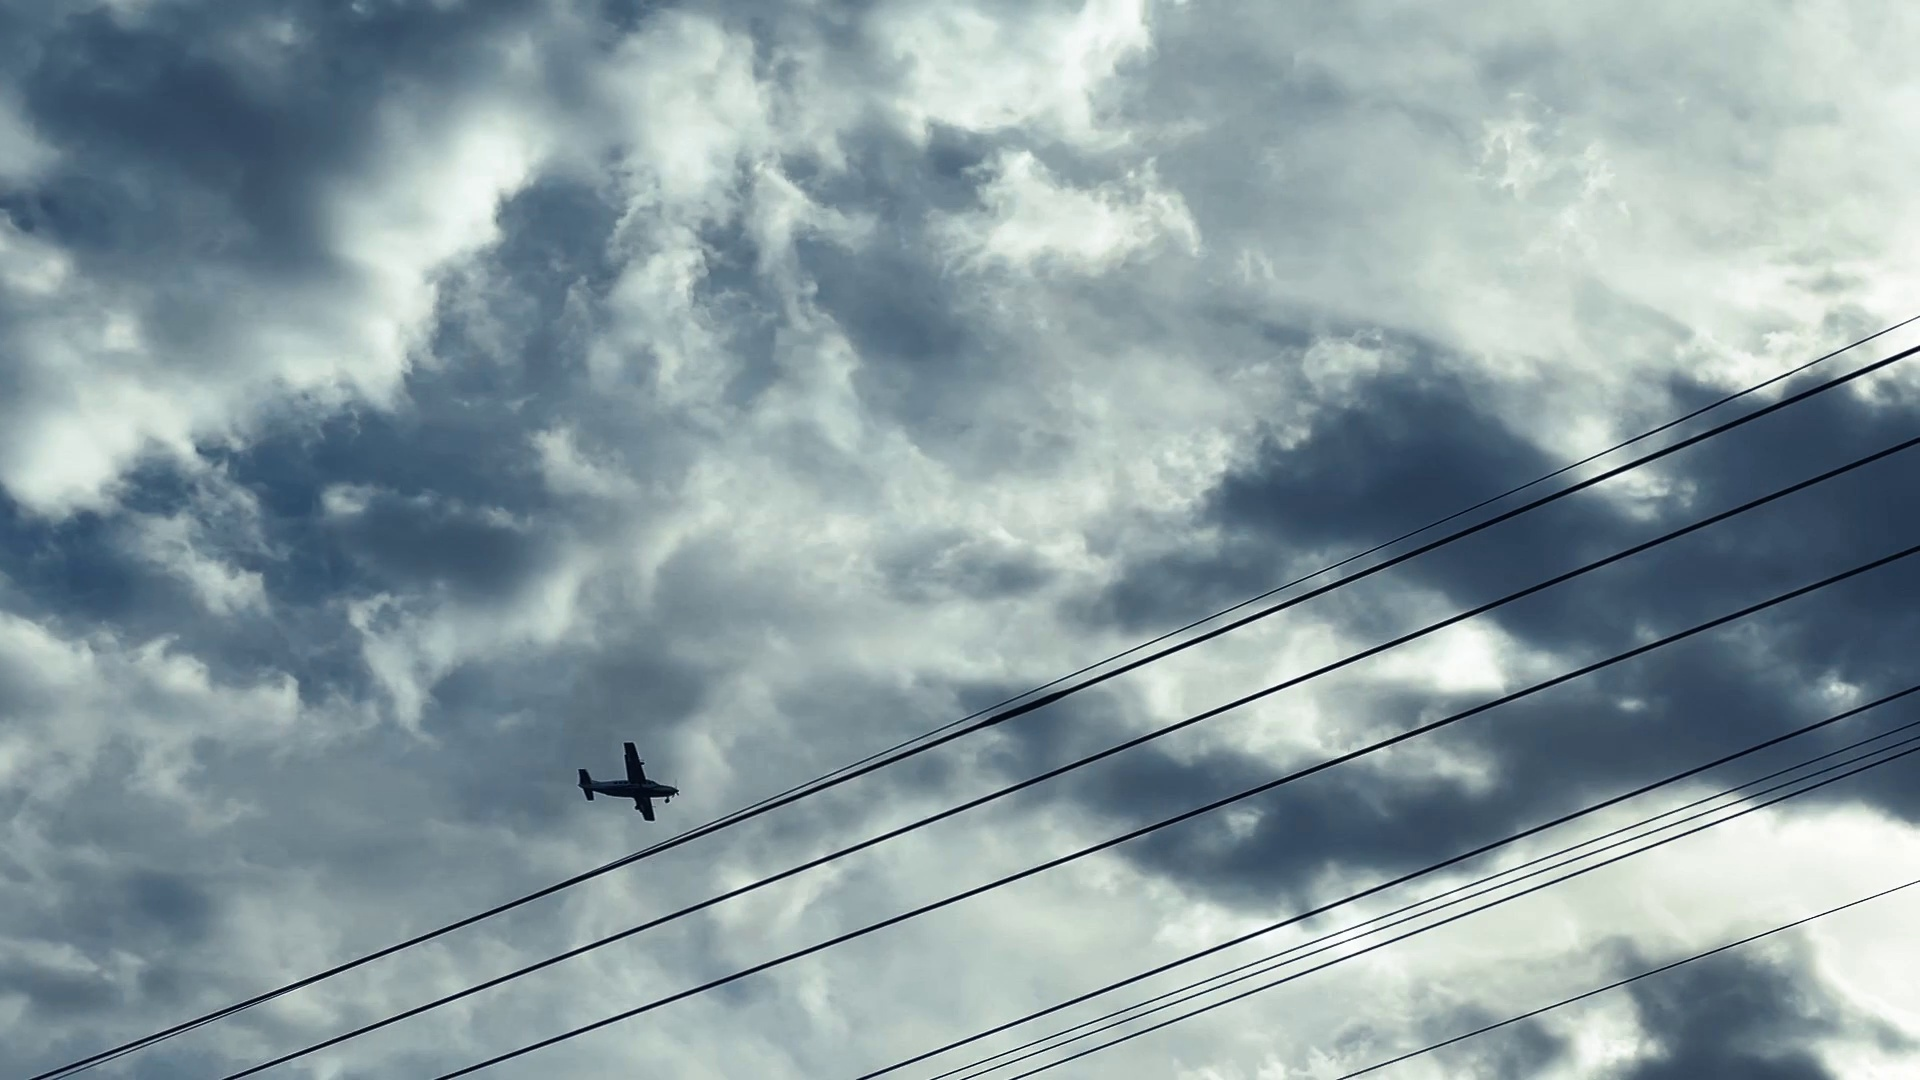plane: (578, 738, 680, 820)
